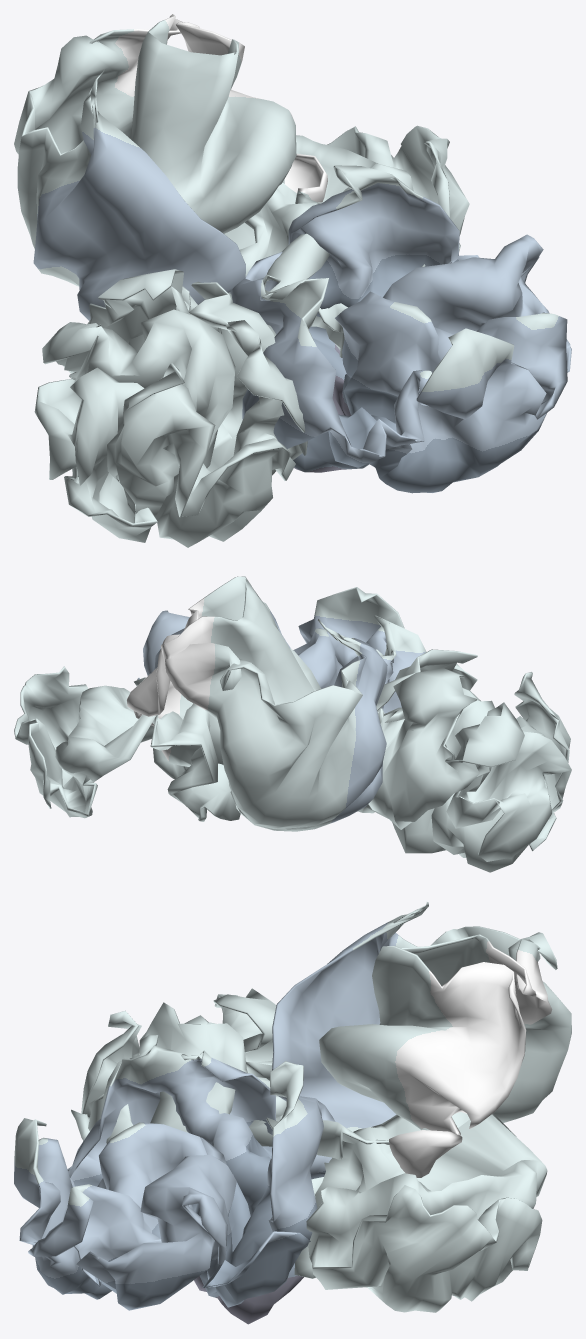
The model's file is bolloPapel_padre.fbx.
3 renders of one model, top to bottom at view 1: azimuth 30°, elevation 25°; view 2: azimuth 150°, elevation 25°; view 3: azimuth 270°, elevation 25°, orthographic. The views are drawn at different scales.
Parts seen in each view (by area): view 1: bolloPapel_padre; view 2: bolloPapel_padre; view 3: bolloPapel_padre.
Part boxes in pixels (box(x1,y1,x2,y2)): bolloPapel_padre: box(14, 14, 571, 547); bolloPapel_padre: box(14, 576, 571, 872); bolloPapel_padre: box(14, 902, 571, 1324).
Bounding box in the file's own units: 56.4 × 38.78 × 54.93.
